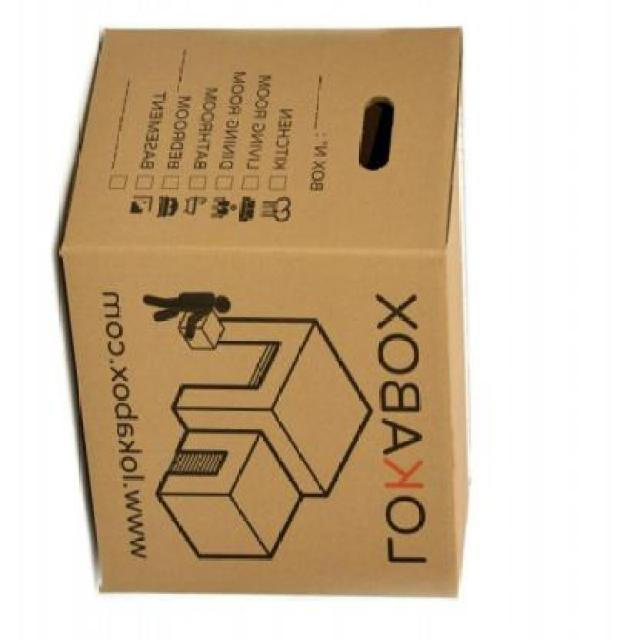cardboxes: (63, 29, 465, 588)
